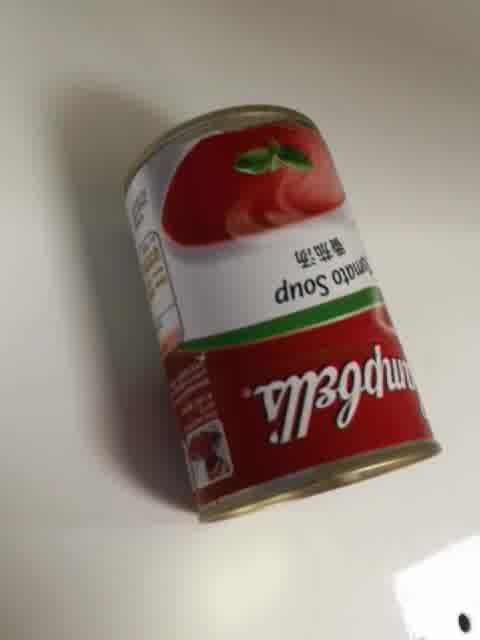tomatosoup: (122, 102, 443, 525)
